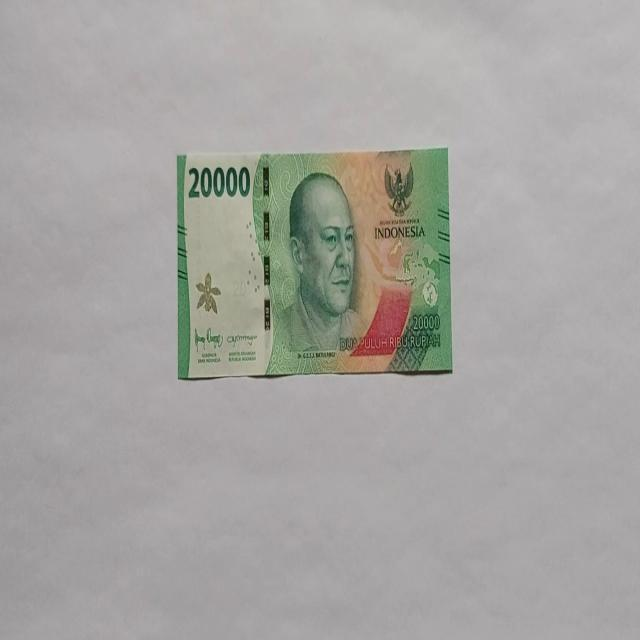dua puluh ribu rupiah: (176, 147, 452, 380), (266, 168, 368, 374)
